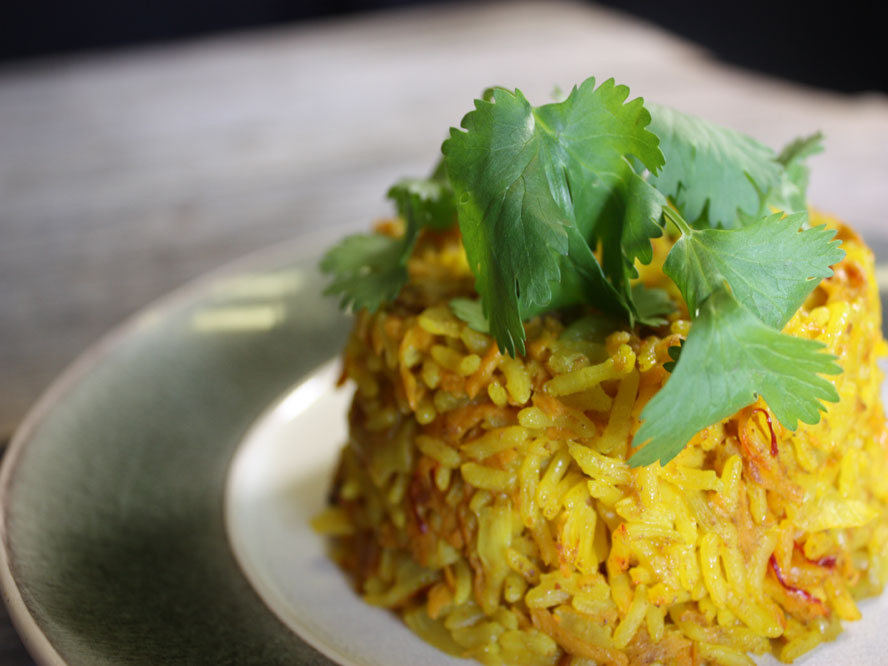plain rice: (355, 397, 788, 611)
